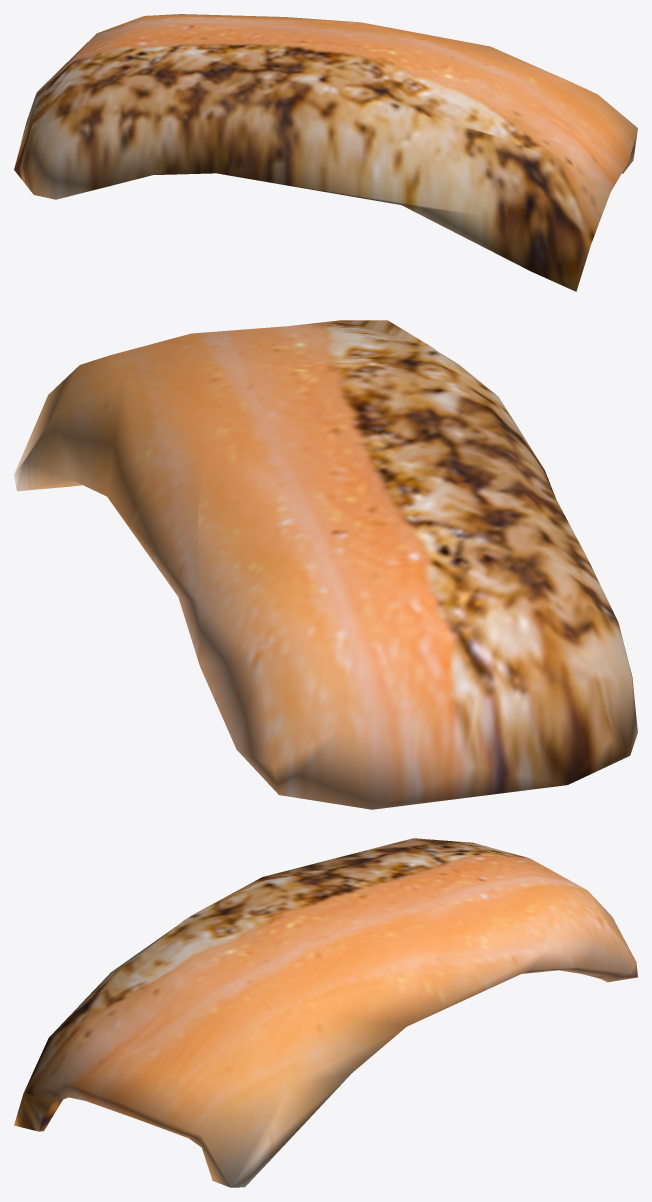
Rendered from smokesalmonsashimi.fbx.
The picture shows the model from 3 angles, top to bottom: view 1: azimuth 30°, elevation 25°; view 2: azimuth 150°, elevation 25°; view 3: azimuth 270°, elevation 25°; orthographic projection. The views are drawn at different scales.
Visible parts, largest first — view 1: Salmon 4.004; view 2: Salmon 4.004; view 3: Salmon 4.004.
Boxes of the visible parts, box(x1,y1,x2,y2) form: Salmon 4.004: box(14, 14, 637, 291); Salmon 4.004: box(14, 320, 637, 809); Salmon 4.004: box(14, 838, 637, 1187).
Size of the model in its own units: 101 by 31.64 by 102.
Materials: 1 (1 with a texture image).
